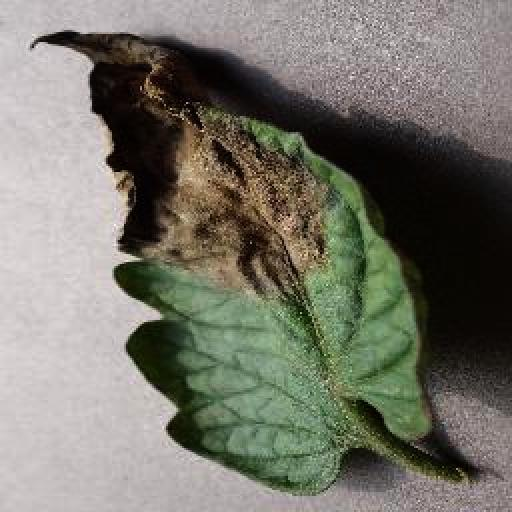disease_tomato: (32, 25, 438, 495)
